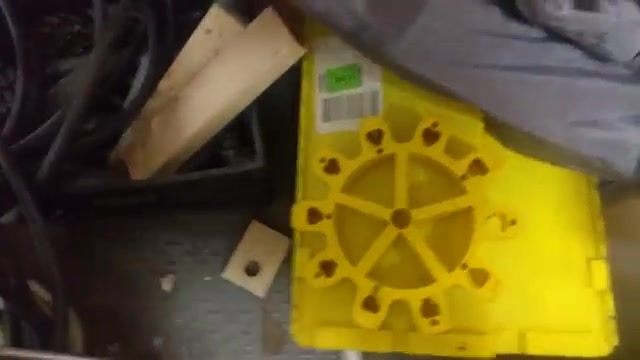gear: (286, 103, 534, 344)
